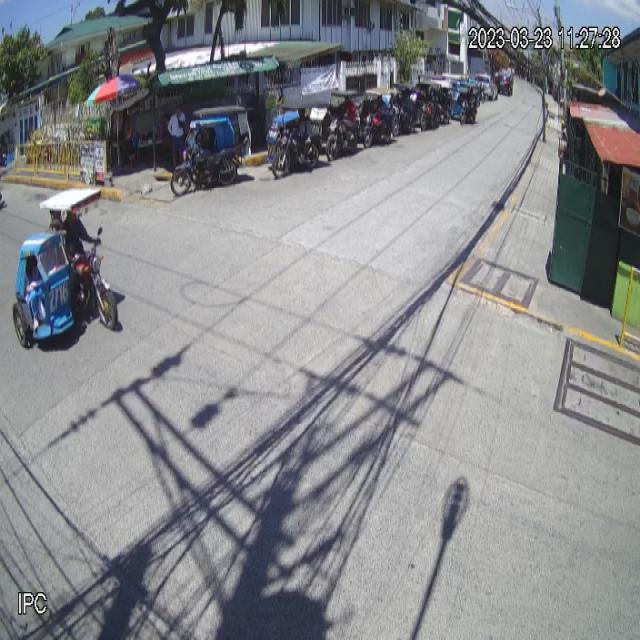Tricycle: (13, 188, 118, 352), (171, 105, 251, 196)
